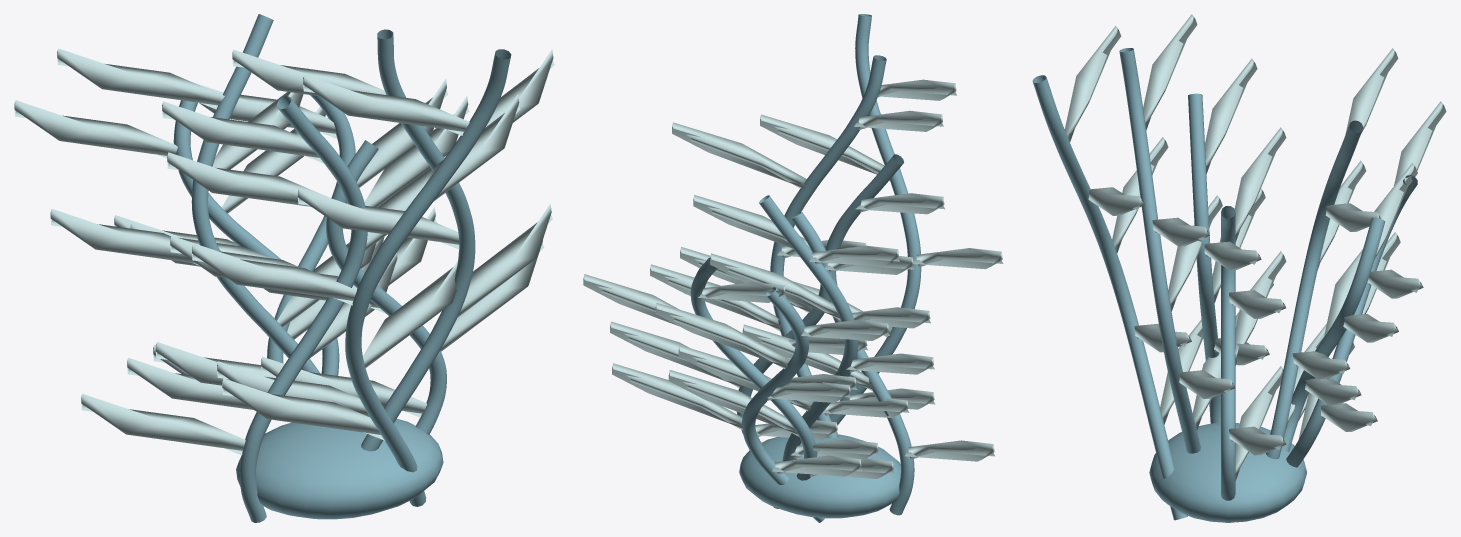
File: bio_aquatic_frond_01_near.glb
3 views of the same model, side by side, from view 1: azimuth 30°, elevation 25°; view 2: azimuth 150°, elevation 25°; view 3: azimuth 270°, elevation 25° (orthographic). The views are drawn at different scales.
Visible parts, largest first — view 1: Ruffled aquatic blade.010, Holdfast, Ruffled aquatic blade.025, Ruffled aquatic blade.020, Ruffled aquatic blade.005, Ruffled aquatic blade, Flexible stipe.002, Flexible stipe.004, Ruffled aquatic blade.015, Ruffled aquatic blade.030, Flexible stipe.005, Flexible stipe.001 (+3 smaller); view 2: Ruffled aquatic blade.030, Ruffled aquatic blade.005, Ruffled aquatic blade.020, Ruffled aquatic blade.025, Holdfast, Ruffled aquatic blade.015, Ruffled aquatic blade.010, Ruffled aquatic blade, Flexible stipe.002, Flexible stipe.004, Flexible stipe.005, Flexible stipe.001 (+3 smaller); view 3: Holdfast, Flexible stipe.002, Ruffled aquatic blade, Flexible stipe.005, Ruffled aquatic blade.025, Ruffled aquatic blade.010, Flexible stipe.001, Ruffled aquatic blade.005, Ruffled aquatic blade.030, Ruffled aquatic blade.020, Ruffled aquatic blade.015, Flexible stipe.004 (+3 smaller).
Part boxes in pixels (bbox=[...]): Ruffled aquatic blade.010: bbox=[191, 75, 520, 440]; Holdfast: bbox=[236, 419, 443, 519]; Ruffled aquatic blade.025: bbox=[217, 49, 554, 417]; Ruffled aquatic blade.020: bbox=[81, 96, 469, 455]; Ruffled aquatic blade.005: bbox=[50, 48, 376, 385]; Ruffled aquatic blade: bbox=[167, 152, 544, 417]; Flexible stipe.002: bbox=[345, 49, 511, 506]; Flexible stipe.004: bbox=[239, 96, 367, 522]; Ruffled aquatic blade.015: bbox=[127, 79, 447, 409]; Ruffled aquatic blade.030: bbox=[14, 100, 436, 374]; Flexible stipe.005: bbox=[361, 29, 475, 451]; Flexible stipe.001: bbox=[191, 14, 320, 373]; Ruffled aquatic blade.030: bbox=[612, 303, 889, 476]; Ruffled aquatic blade.005: bbox=[678, 245, 934, 460]; Ruffled aquatic blade.020: bbox=[693, 193, 995, 461]; Ruffled aquatic blade.025: bbox=[650, 110, 943, 417]; Holdfast: bbox=[739, 434, 900, 518]; Ruffled aquatic blade.015: bbox=[583, 274, 894, 478]; Ruffled aquatic blade.010: bbox=[760, 79, 1003, 409]; Ruffled aquatic blade: bbox=[610, 247, 914, 439]; Flexible stipe.002: bbox=[829, 14, 921, 425]; Flexible stipe.004: bbox=[825, 154, 914, 515]; Flexible stipe.005: bbox=[770, 55, 886, 438]; Flexible stipe.001: bbox=[759, 195, 858, 461]; Holdfast: bbox=[1149, 423, 1306, 522]; Flexible stipe.002: bbox=[1032, 75, 1187, 520]; Ruffled aquatic blade: bbox=[1229, 127, 1286, 480]; Flexible stipe.005: bbox=[1119, 48, 1200, 453]; Ruffled aquatic blade.025: bbox=[1143, 14, 1236, 430]; Ruffled aquatic blade.010: bbox=[1064, 26, 1203, 424]; Flexible stipe.001: bbox=[1266, 120, 1363, 459]; Ruffled aquatic blade.005: bbox=[1286, 48, 1398, 428]; Ruffled aquatic blade.030: bbox=[1298, 101, 1446, 439]; Ruffled aquatic blade.020: bbox=[1204, 58, 1273, 365]; Ruffled aquatic blade.015: bbox=[1298, 163, 1417, 421]; Flexible stipe.004: bbox=[1188, 93, 1220, 423].
Bounding box in the file's own units: 1.8 × 1.89 × 1.57.
